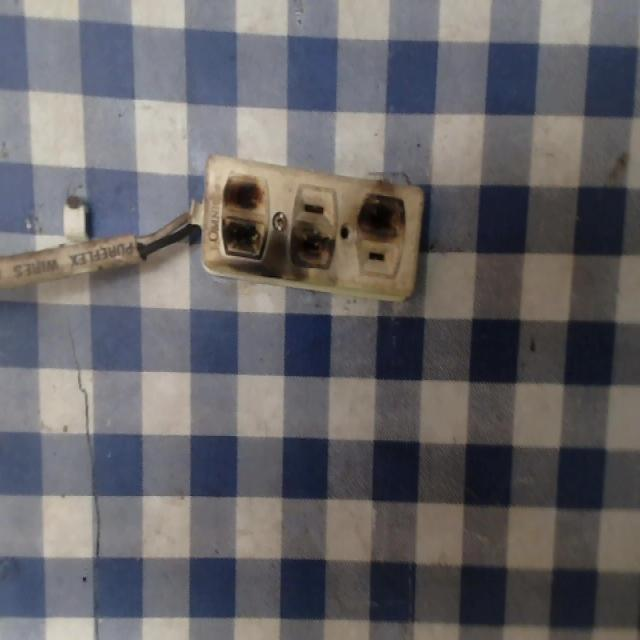-: (212, 171, 270, 272), (280, 227, 339, 280), (355, 192, 405, 244)
